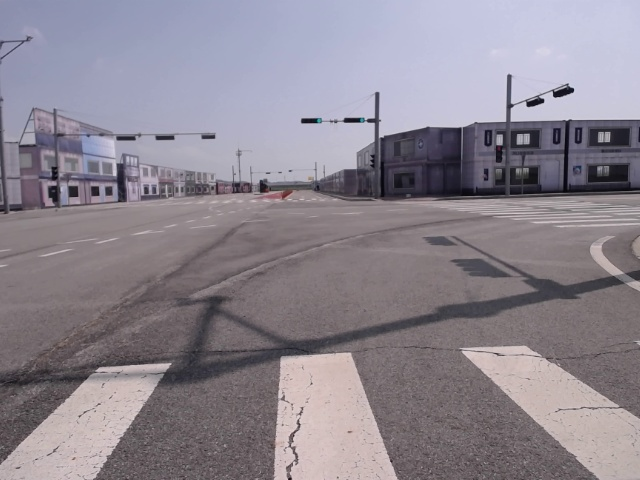straight_green_4: (343, 116, 365, 122), (301, 118, 322, 123)
